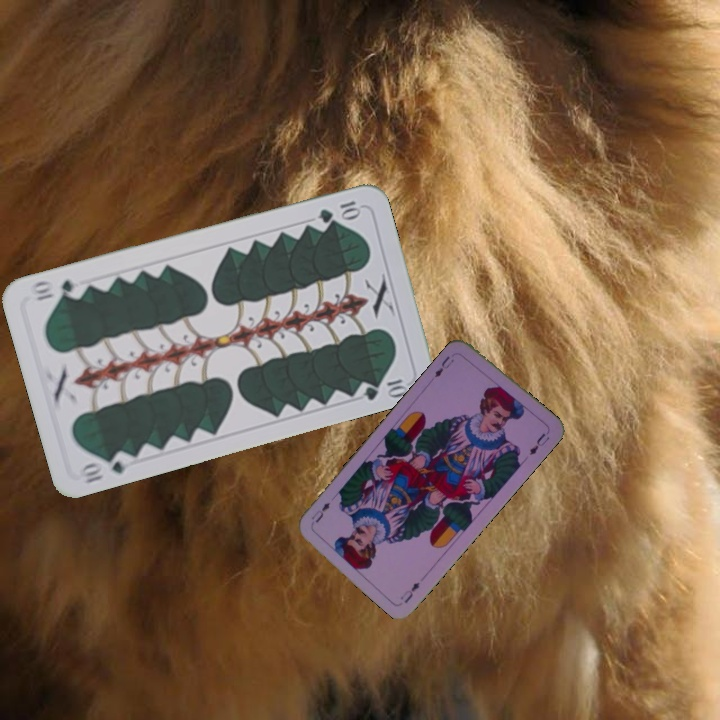EU: (396, 578, 423, 606), (431, 351, 457, 380)
G10: (77, 447, 132, 486), (314, 196, 363, 226)
